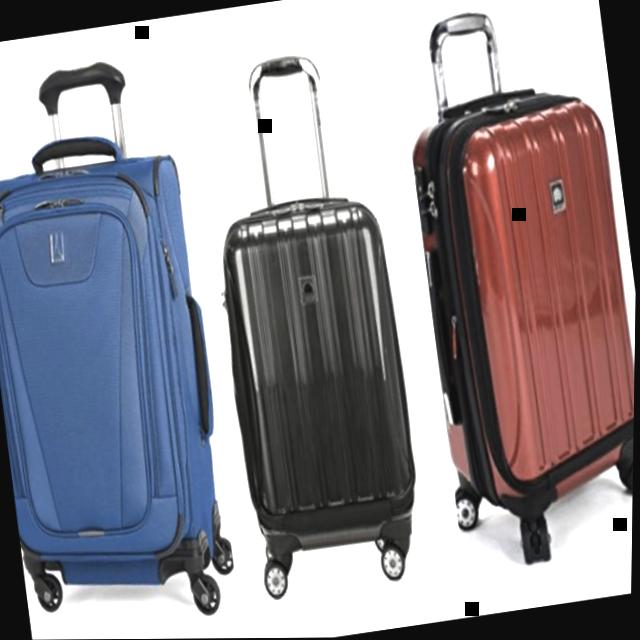luggage: (393, 72, 639, 536), (0, 142, 243, 606), (205, 183, 436, 566)
